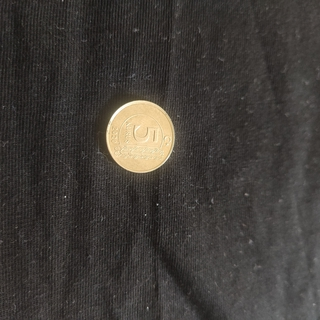5KURUS: (104, 98, 176, 174)
